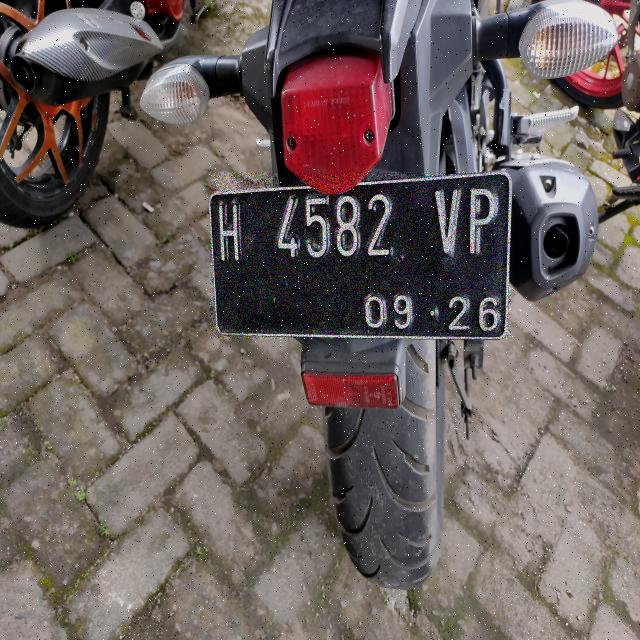plate: (211, 172, 510, 338)
